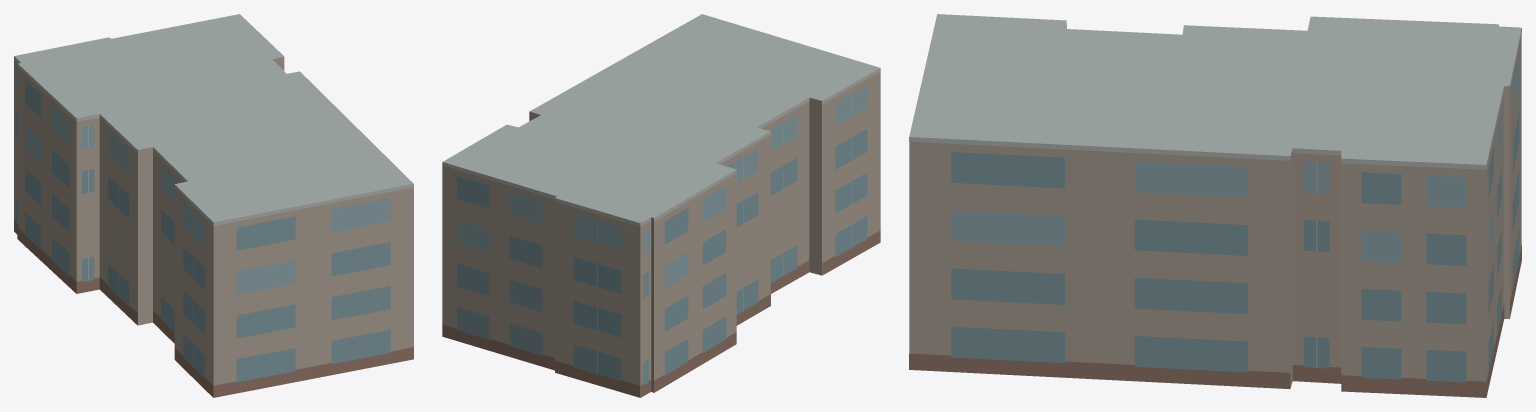
The model's file is survey-upis-32833503.glb.
3 views of the same model, side by side, from view 1: azimuth 30°, elevation 25°; view 2: azimuth 150°, elevation 25°; view 3: azimuth 270°, elevation 25° (orthographic). The views are drawn at different scales.
Visible parts, largest first — view 1: survey-upis-32833503.tmp; view 2: survey-upis-32833503.tmp; view 3: survey-upis-32833503.tmp.
Part boxes in pixels (left/top/right/bottom): survey-upis-32833503.tmp: left=14, top=14, right=413, bottom=397; survey-upis-32833503.tmp: left=442, top=14, right=880, bottom=397; survey-upis-32833503.tmp: left=909, top=14, right=1521, bottom=397.
Bounding box in the file's own units: 16.55 × 11.9 × 28.38.
